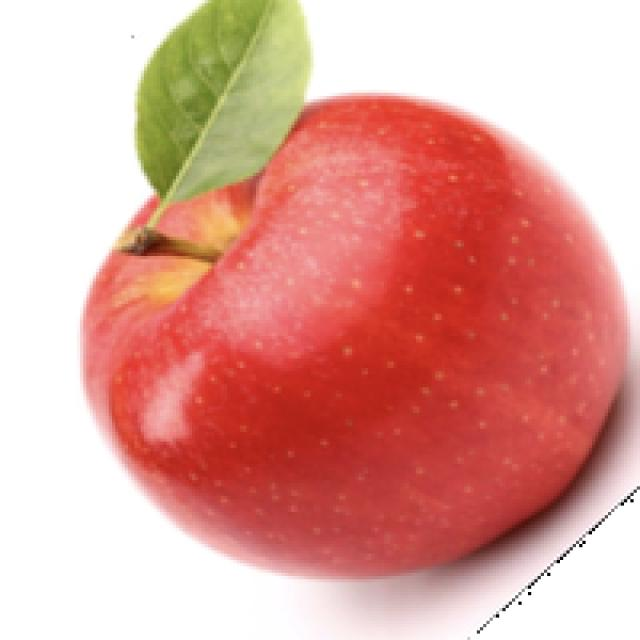apple: (74, 0, 637, 637)
